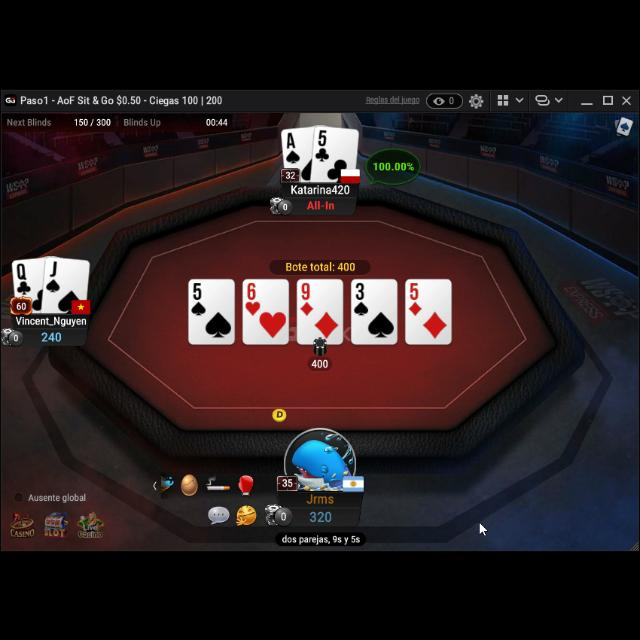3d: (354, 281, 368, 317)
5c: (314, 127, 332, 163)
5d: (410, 282, 424, 316)
5s: (189, 280, 207, 316)
6h: (245, 280, 262, 316)
9d: (300, 280, 314, 316)
As: (284, 130, 302, 164)
Js: (45, 258, 61, 292)
Qc: (15, 260, 33, 296)
all_in_symbol: (306, 198, 336, 212)
bet_text: (310, 358, 330, 368)
dealer: (270, 405, 288, 423)
pot_text: (284, 260, 356, 272)
stack_text: (40, 330, 62, 344), (310, 510, 332, 522)
